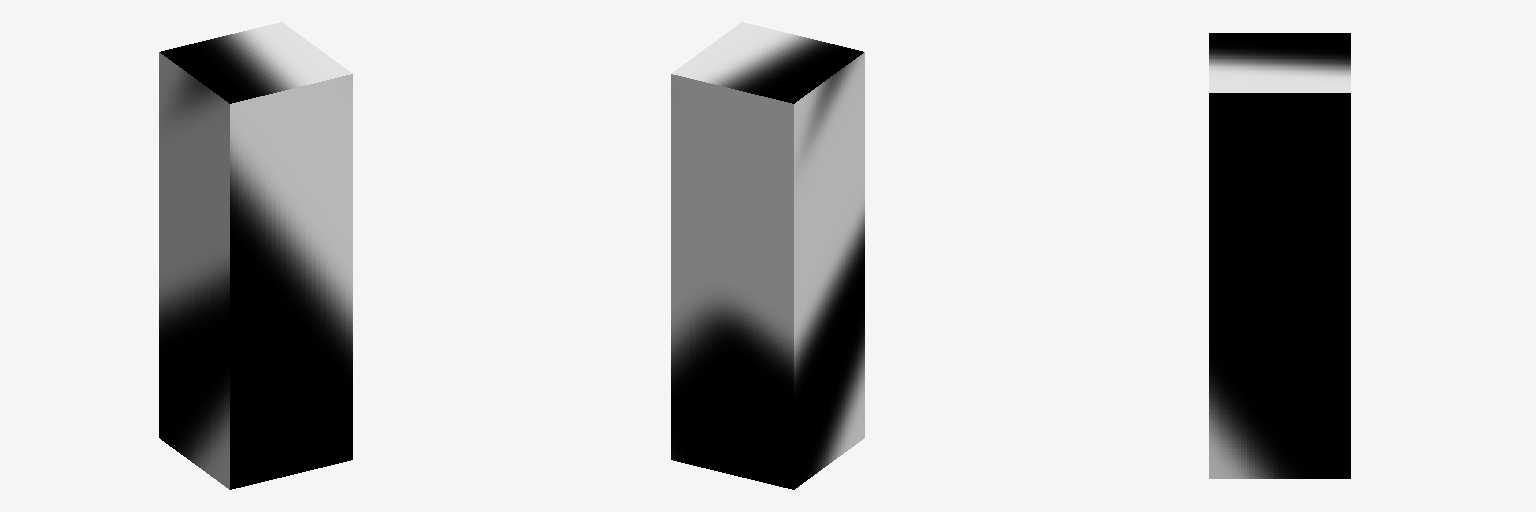
The picture shows the model from 3 angles: view 1: azimuth 30°, elevation 25°; view 2: azimuth 150°, elevation 25°; view 3: azimuth 270°, elevation 25°; orthographic projection.
Visible parts, largest first — view 1: 左上腕; view 2: 左上腕; view 3: 左上腕.
Boxes of the visible parts, <box> form: 左上腕: <box>159,22,352,489</box>; 左上腕: <box>671,22,864,489</box>; 左上腕: <box>1209,33,1350,478</box>.
Bounding box in the file's own units: 2 × 6 × 2.
1 materials, 1 textured.